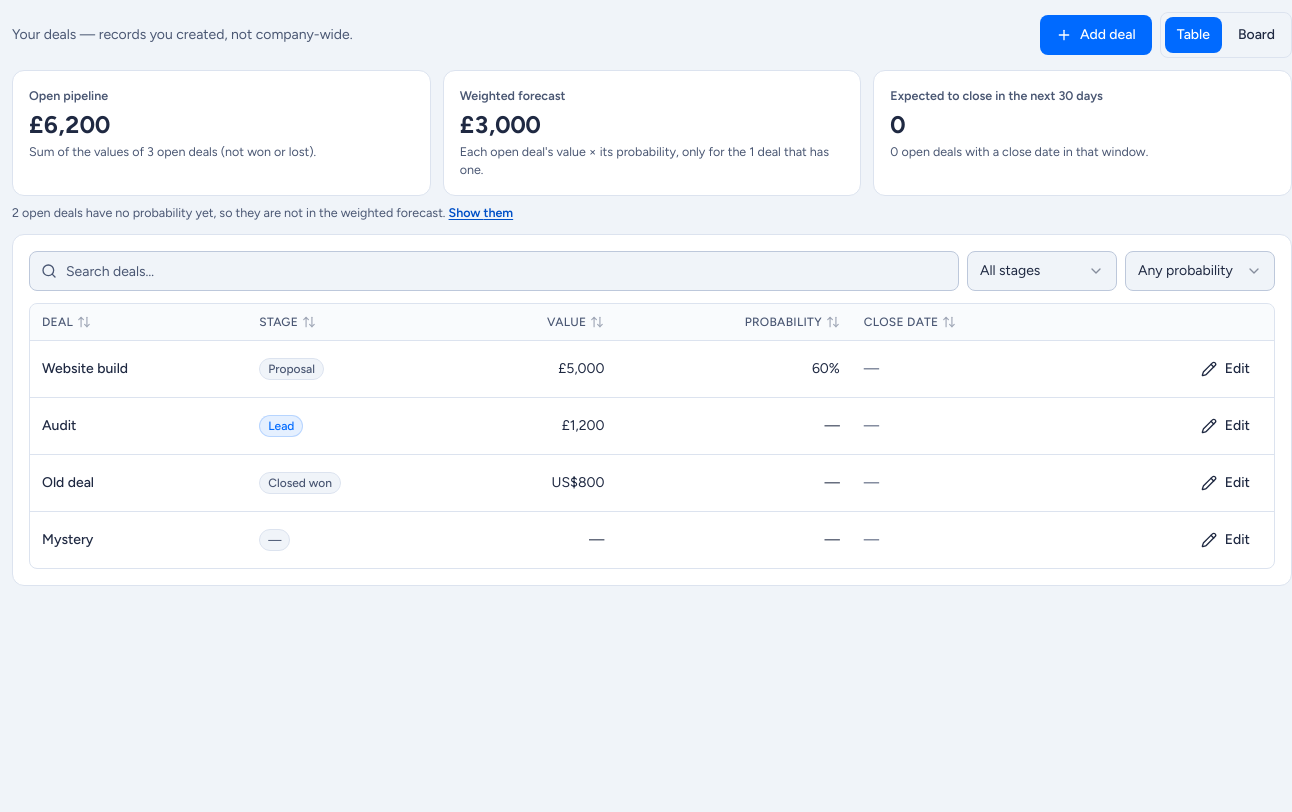
Test case: DealsView board › "No stage" is never offered as a move target
Click the button "Board" at (1256, 35), box [1226, 17, 1287, 53]
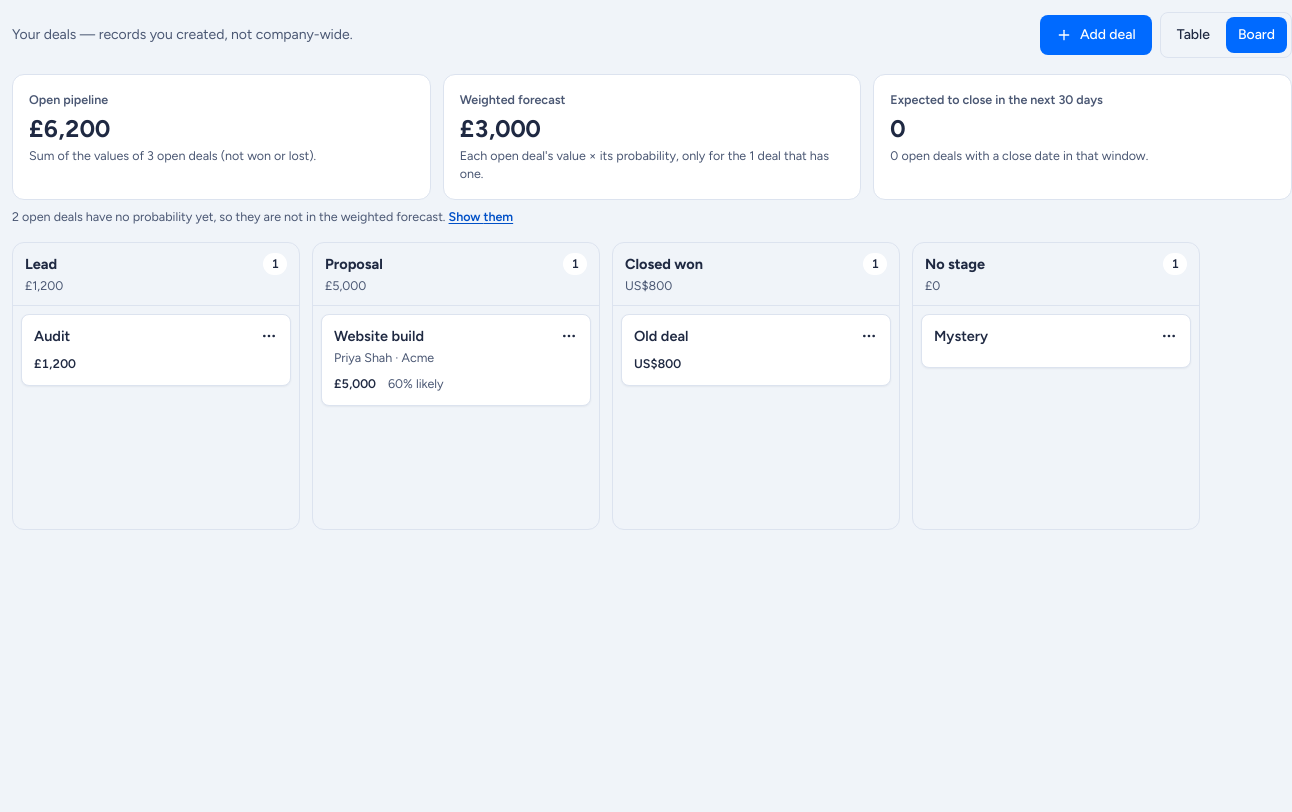
Press the mouse on the button named "Actions for Audit" at (269, 336), box [253, 320, 285, 352]
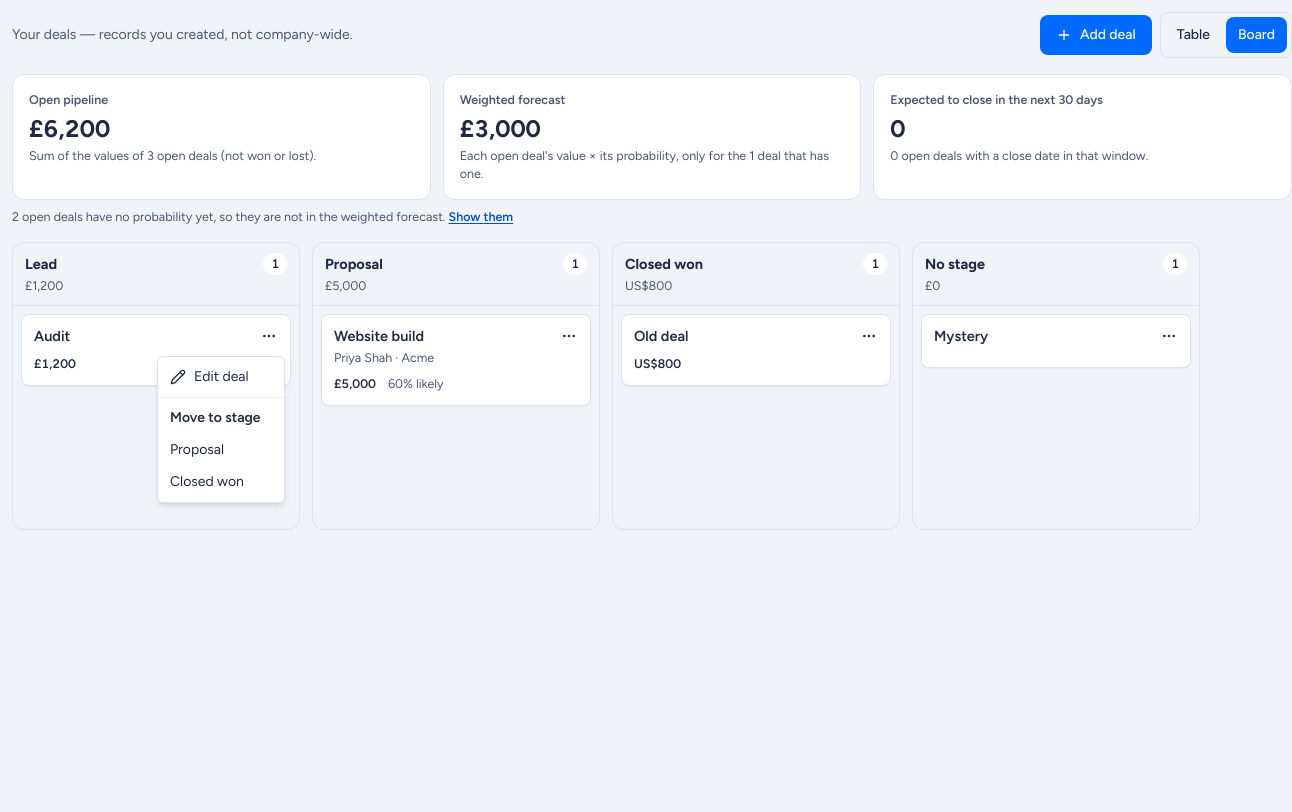
Expected: the menu item "Proposal" is shown, [170, 441, 224, 458]
